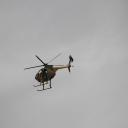helicopter: (25, 50, 77, 93)
